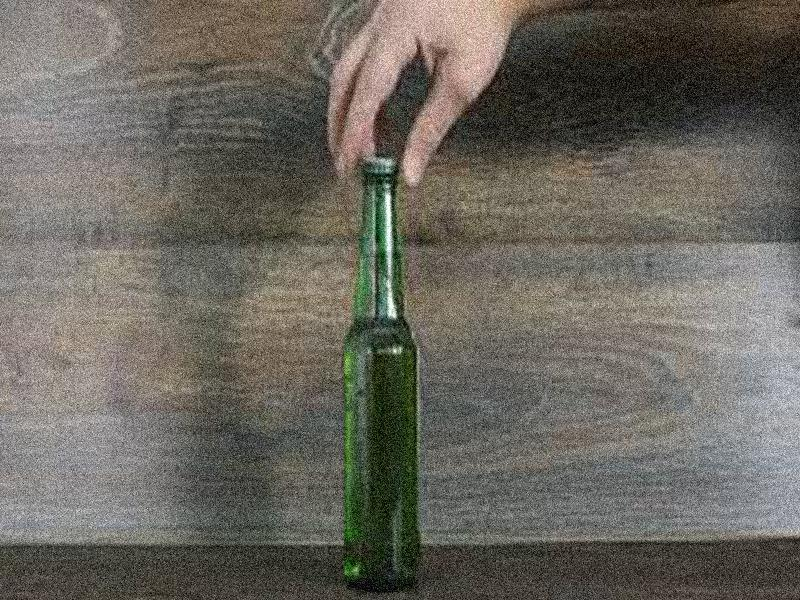Beer: (343, 155, 421, 589)
